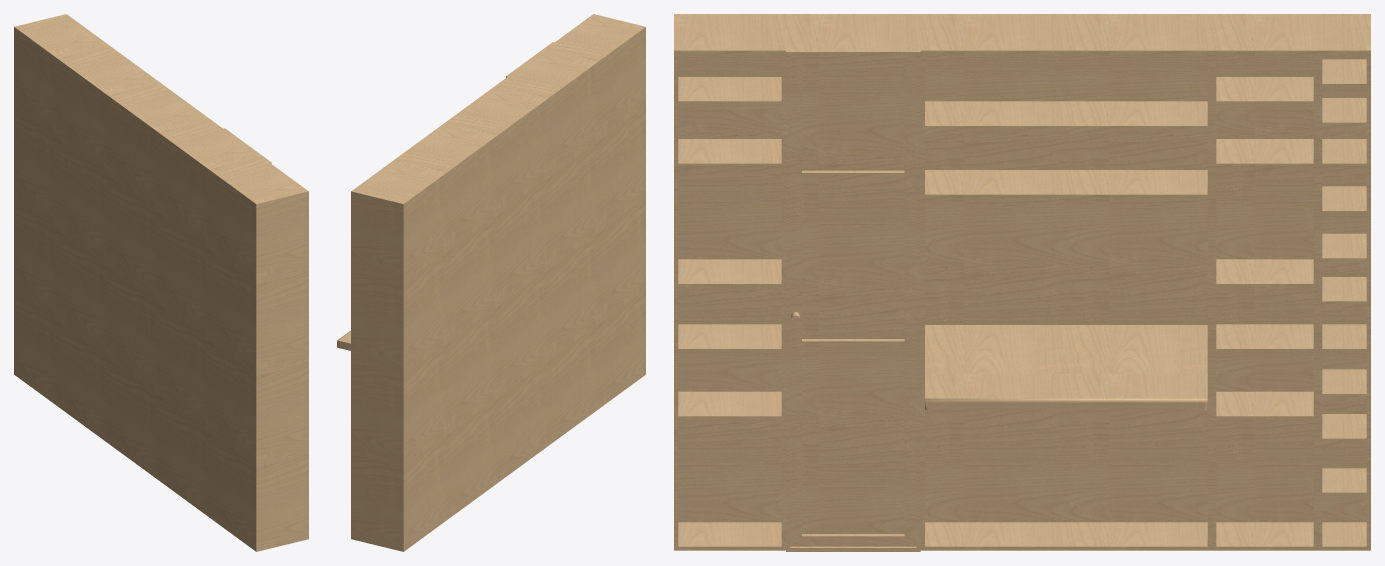
The model's file is desk.dae.
3 renders of one model, left to right at view 1: azimuth 30°, elevation 25°; view 2: azimuth 150°, elevation 25°; view 3: azimuth 270°, elevation 25°, orthographic. The views are drawn at different scales.
Visible parts, largest first — view 1: SketchUp; view 2: SketchUp; view 3: SketchUp (×29).
Part boxes in pixels (box(x1,y1,x2,y2)): SketchUp: box(14, 14, 308, 551); SketchUp: box(351, 14, 645, 551); SketchUp (×29): box(674, 14, 1370, 551).
Size of the model in its own units: 27.95 by 94.49 by 74.8.
Materials: 1 (1 with a texture image).
